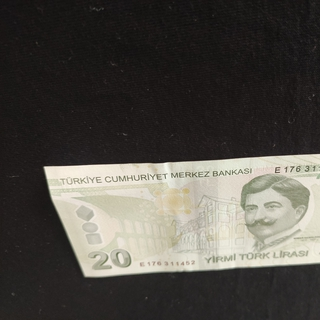20TLBack: (43, 149, 320, 278)
